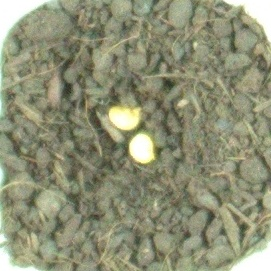pepper seed: (47, 49, 207, 216), (33, 37, 179, 170)
